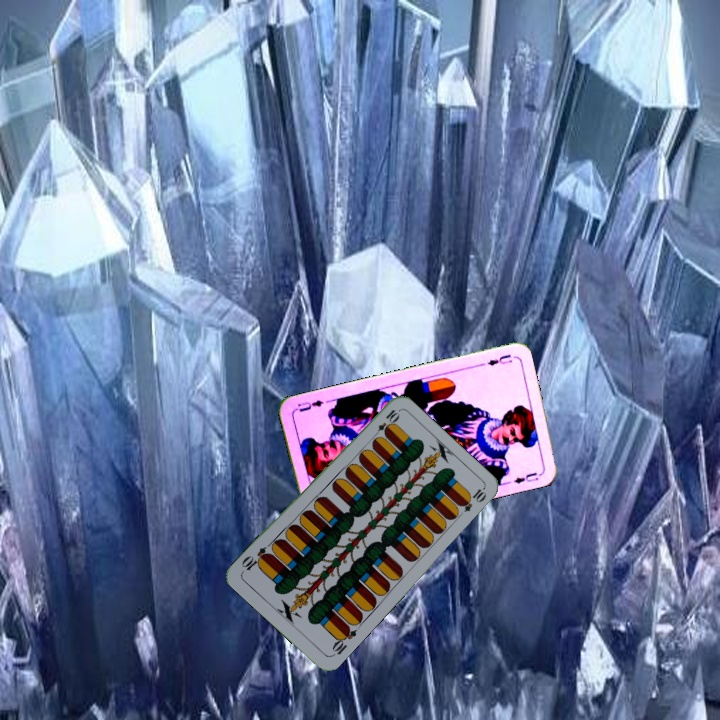E10: (369, 405, 401, 441), (328, 622, 359, 659)
EU: (483, 350, 515, 368)
